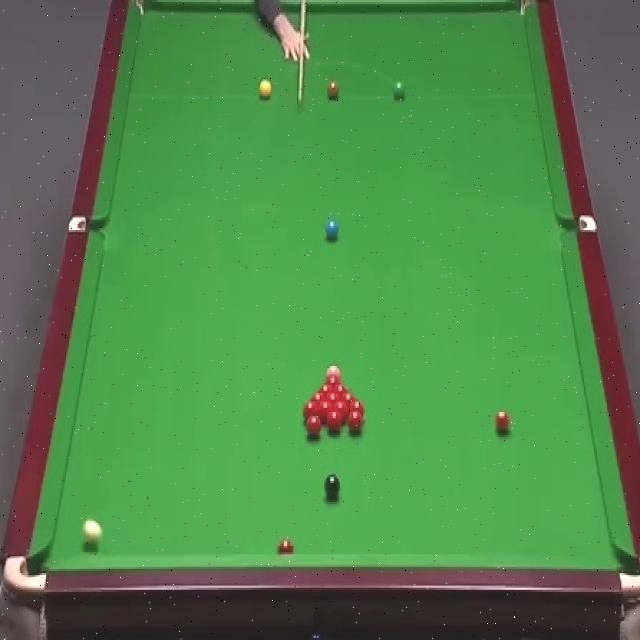black-ball: (325, 475, 339, 498)
blue-ball: (325, 218, 340, 239)
brown-ball: (326, 78, 340, 102)
green-ball: (392, 78, 406, 100)
pink-ball: (326, 365, 344, 378)
red-ball: (495, 412, 512, 434), (278, 536, 294, 558), (307, 416, 322, 439), (342, 392, 356, 415), (350, 399, 364, 420), (327, 412, 341, 432), (303, 403, 318, 421), (319, 402, 332, 422), (334, 403, 347, 423), (350, 412, 361, 432), (310, 393, 326, 402), (326, 395, 342, 401)
white-ball: (79, 519, 103, 546)
yellow-ball: (259, 80, 272, 100)
